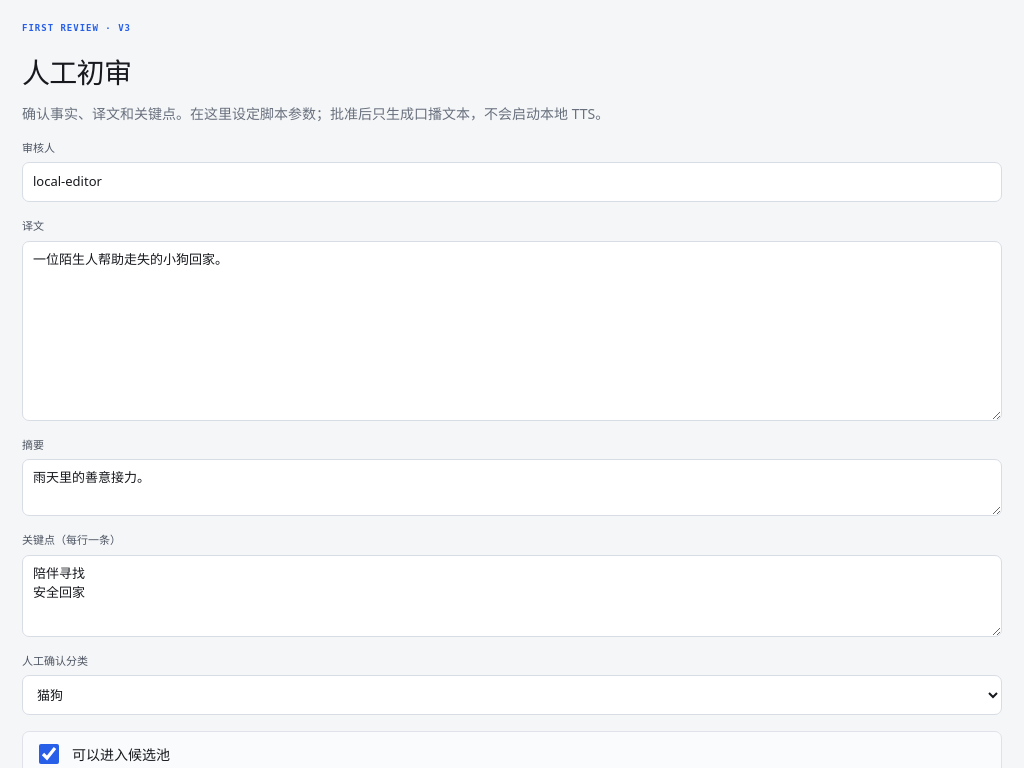
it: FirstReviewPanel › does not open confirmation or submit when required review text is blank
Clear the field labelled "审核人" at (512, 182), box [22, 162, 1002, 202]
(page scrolled)
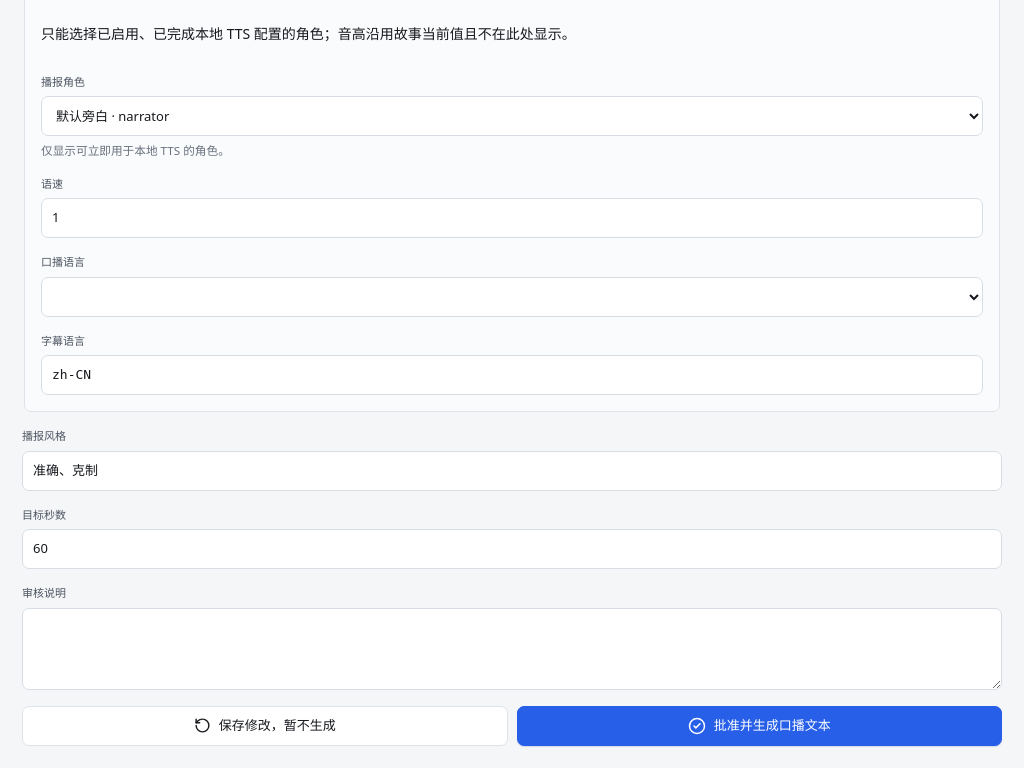
Click the button "批准并生成口播文本" at (759, 726), box [516, 706, 1002, 746]
(page scrolled)
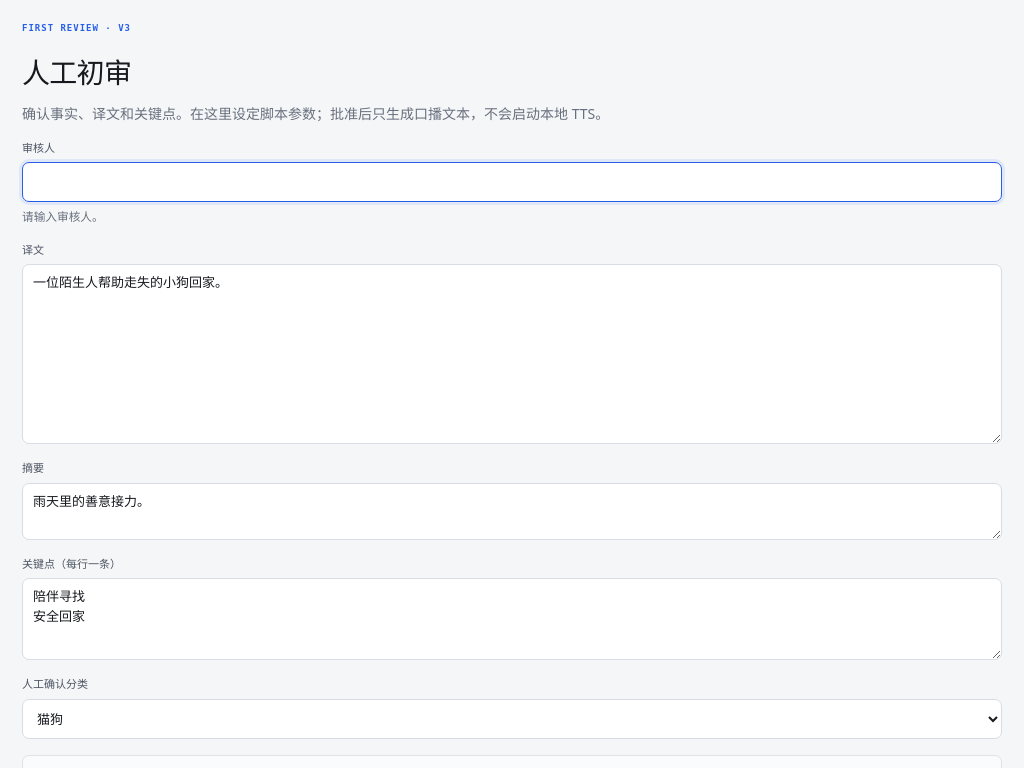
Expected: the text "请输入审核人。" is shown, [22, 209, 104, 224]
